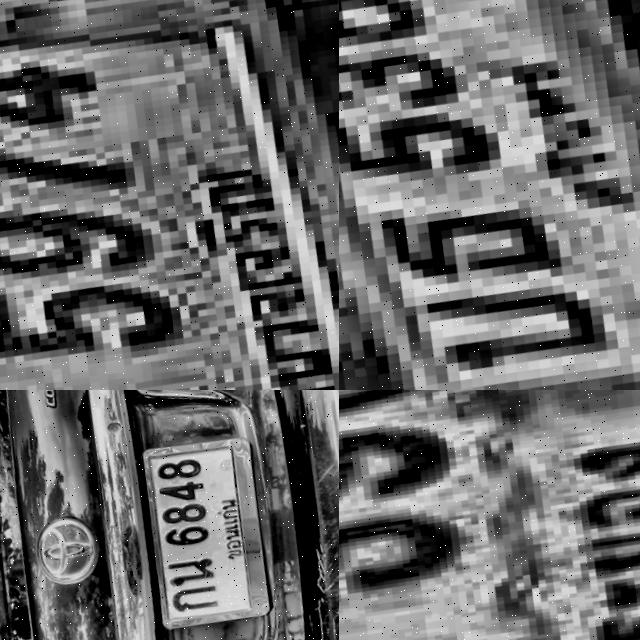license-plate: (339, 0, 640, 390), (339, 390, 640, 640), (127, 422, 294, 634)
